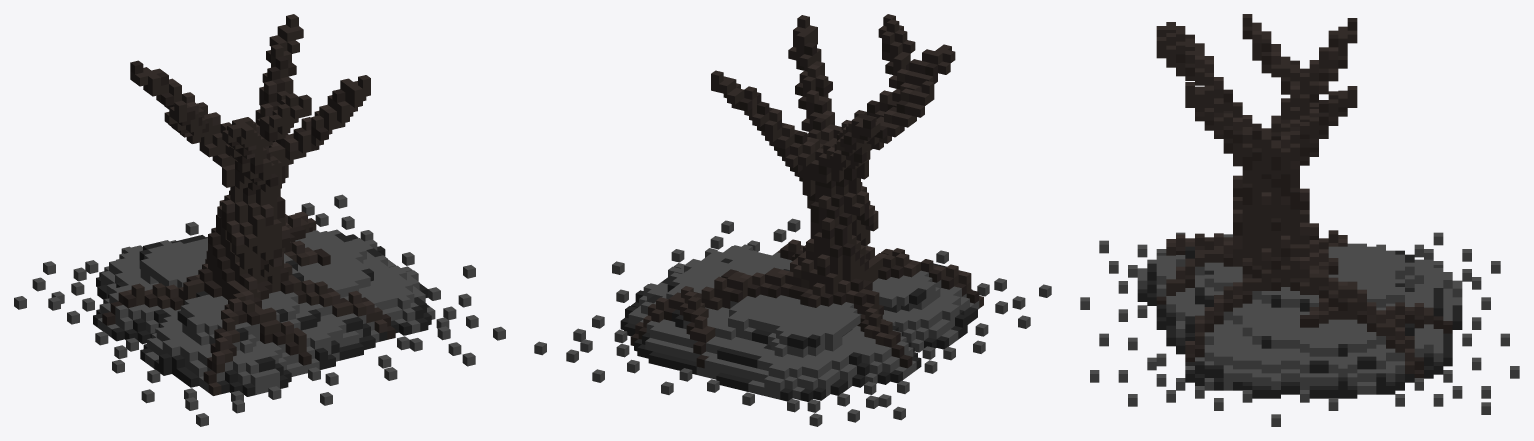
Rendered from LavaPool-0.obj.
3 views of the same model, side by side, from view 1: azimuth 30°, elevation 25°; view 2: azimuth 150°, elevation 25°; view 3: azimuth 270°, elevation 25° (orthographic). The views are drawn at different scales.
Size of the model in its own units: 4.6 by 3.2 by 4.6.
